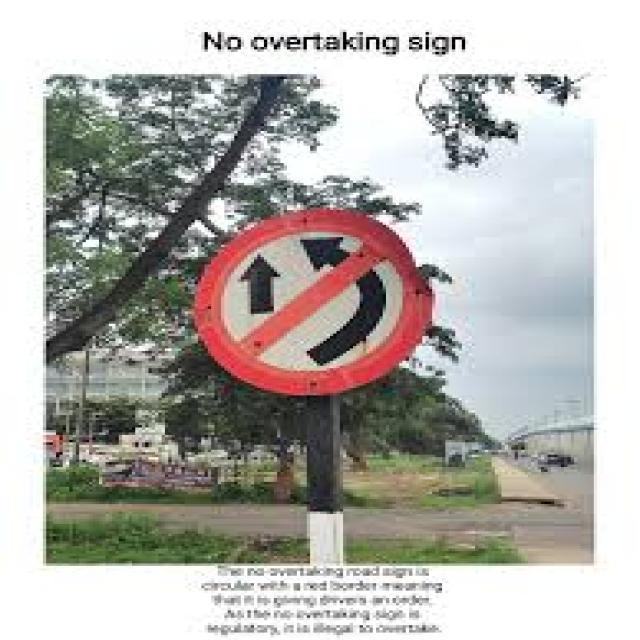overtaking prohibited: (193, 204, 438, 391)
